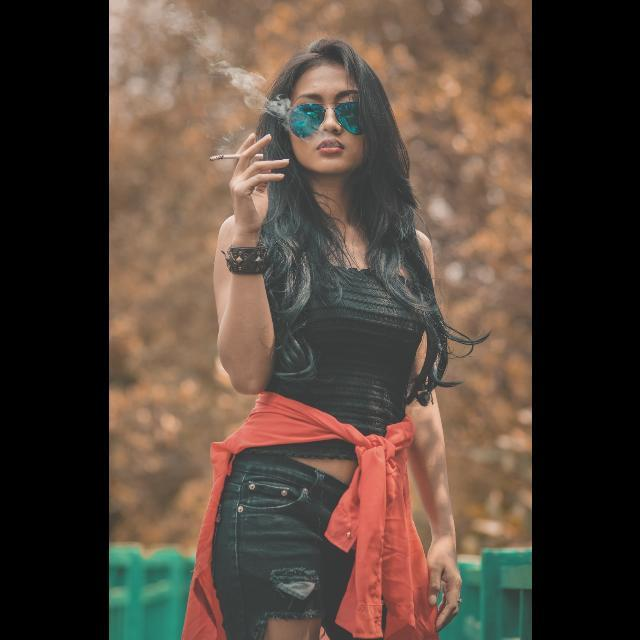rokok: (203, 144, 271, 166)
